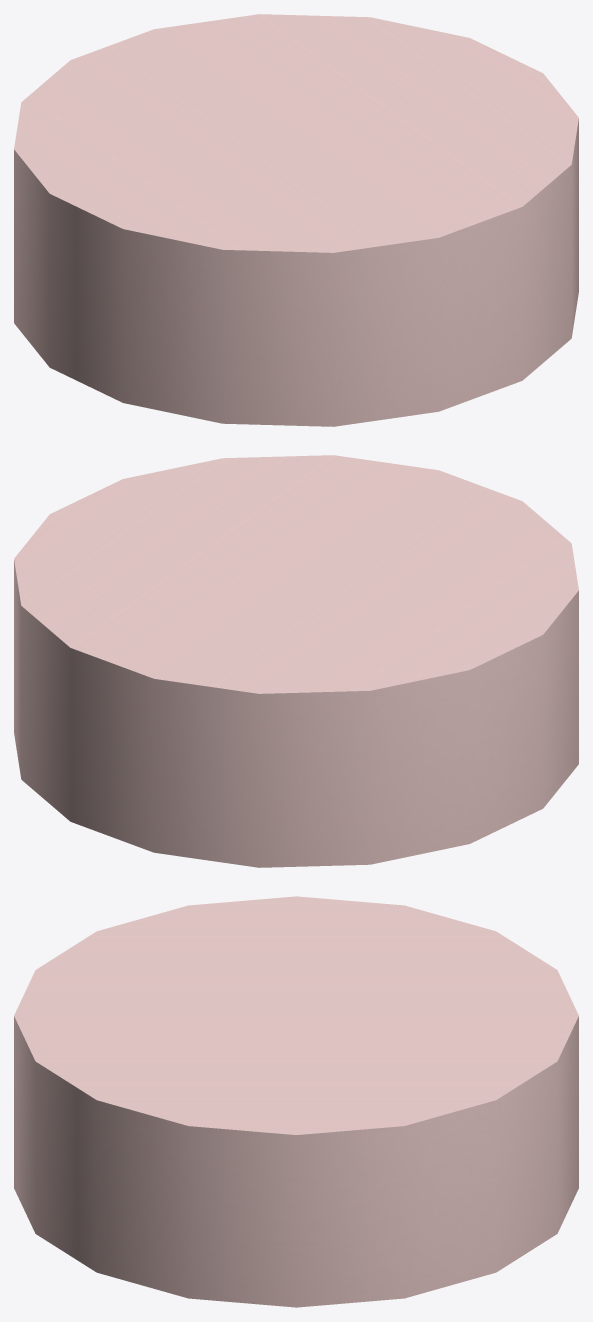
Rendered from smokedetector.fbx.
3 views of the same model, one above another, from view 1: azimuth 30°, elevation 25°; view 2: azimuth 150°, elevation 25°; view 3: azimuth 270°, elevation 25° (orthographic).
Visible parts, largest first — view 1: smokedetector; view 2: smokedetector; view 3: smokedetector.
Part boxes in pixels (x1=…): smokedetector: x1=14, y1=14, x2=578, y2=426; smokedetector: x1=14, y1=455, x2=578, y2=867; smokedetector: x1=14, y1=896, x2=578, y2=1307.
Size of the model in its own units: 0.551 by 0.2037 by 0.551.
